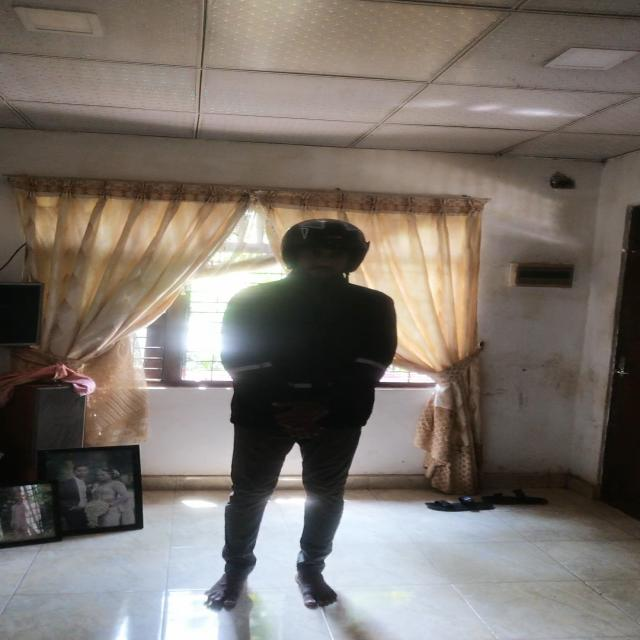Helmet_Wearer: (274, 216, 367, 292)
Jacket_Wearer: (210, 277, 402, 461)
Person: (202, 212, 382, 610)
